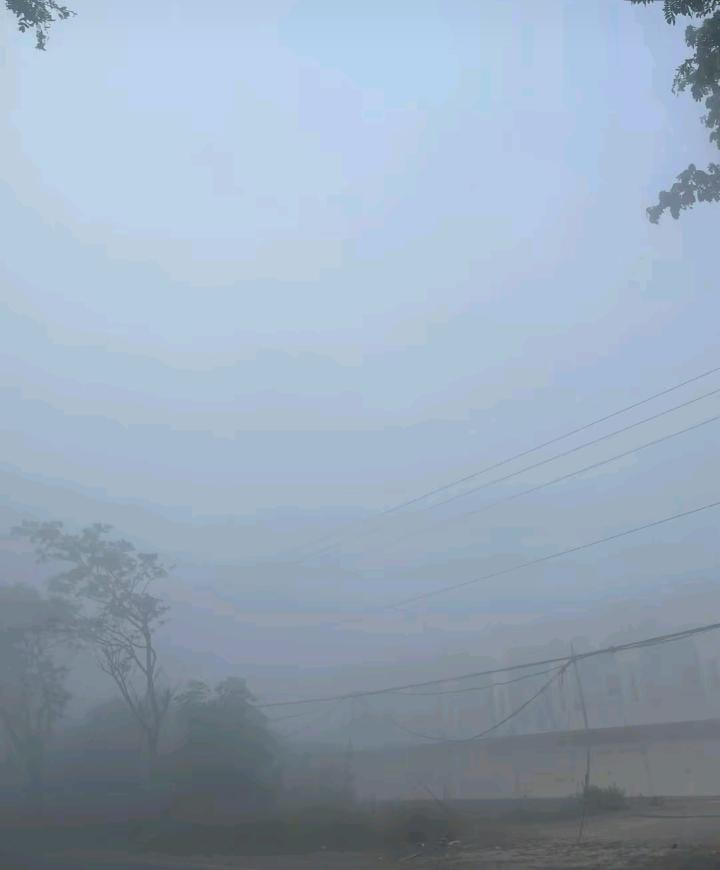Deteksi-Objek-Citra-Berasap: (0, 0, 720, 870)
Gedung: (317, 716, 719, 803)
Vegetasi: (0, 516, 181, 800), (629, 0, 720, 223), (160, 674, 288, 817), (0, 0, 77, 51)
